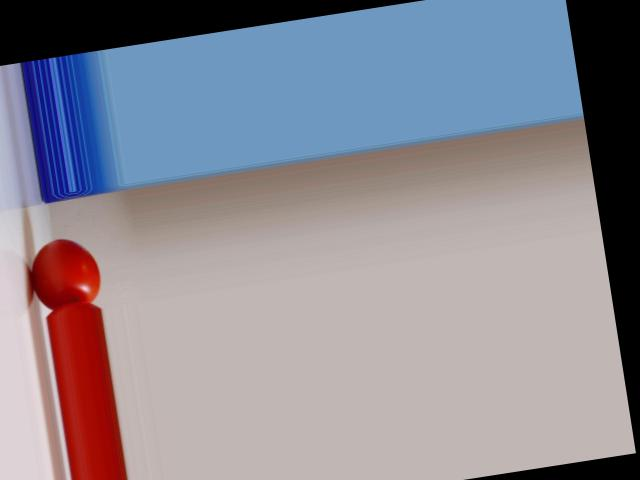tomato: (26, 234, 103, 311)
